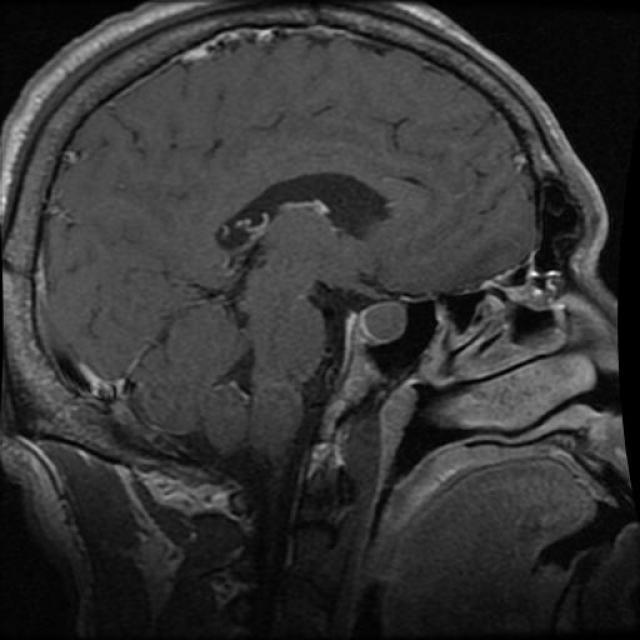pituitary: (340, 275, 412, 350)
